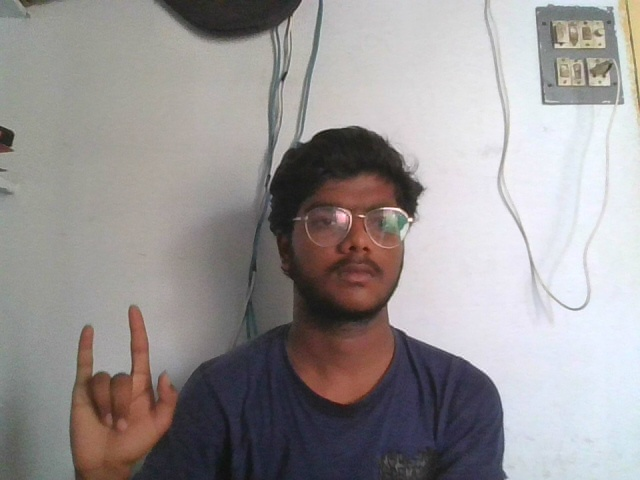IloveYou: (67, 304, 180, 470)
